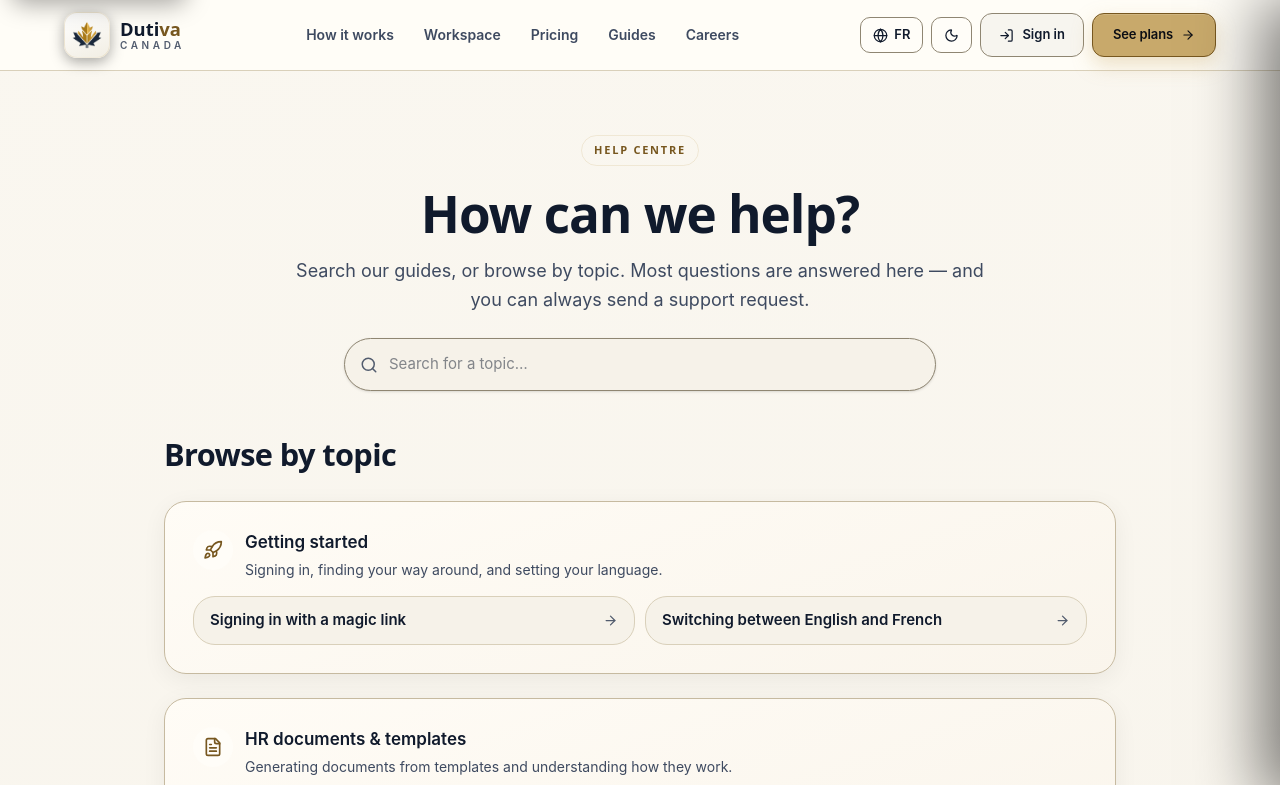
Scenario: HelpCenterPage › re-localizes to French via the header language toggle
This screenshot has width=1280, height=785.
Step 1. Click the button with aria-label "Toggle language" → point(892, 35), box x1=860 y1=17 x2=923 y2=53
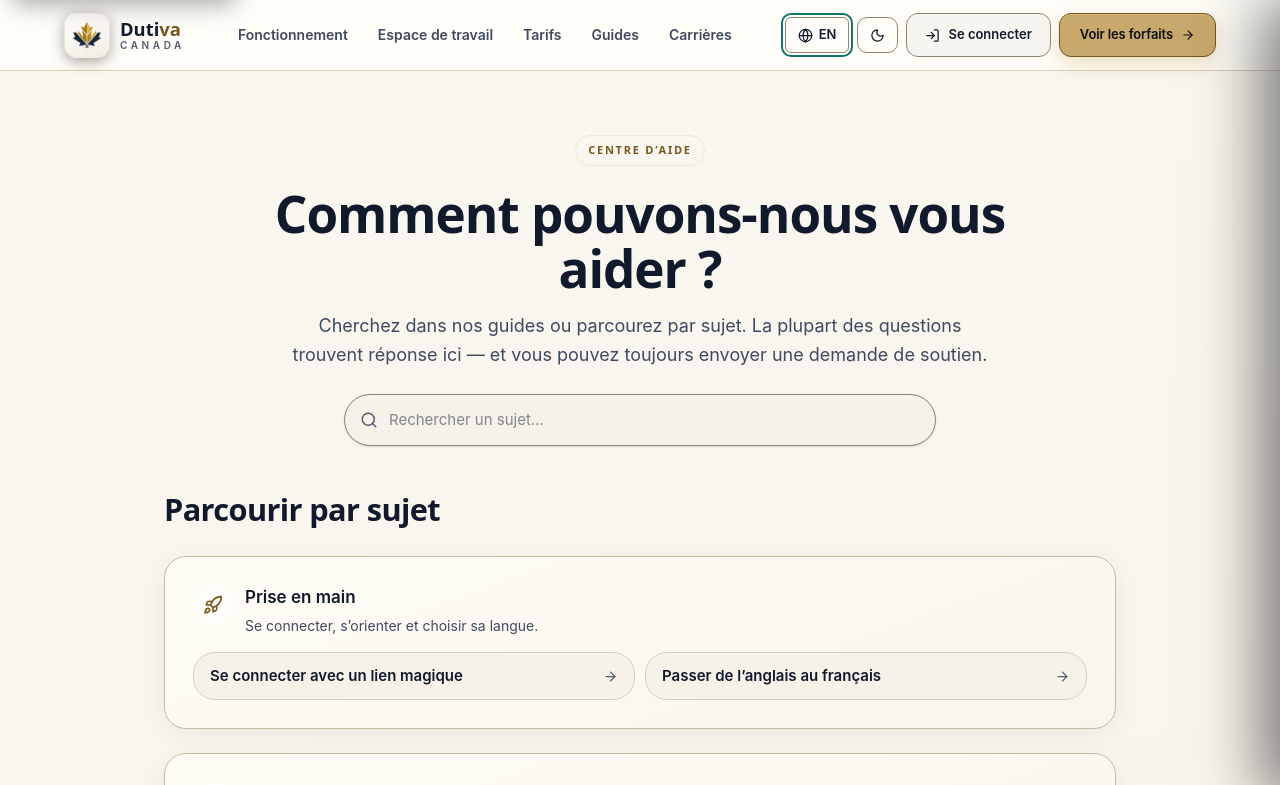
Check: the heading "Comment pouvons-nous vous aider ?" is shown, box x1=244 y1=186 x2=1036 y2=296
